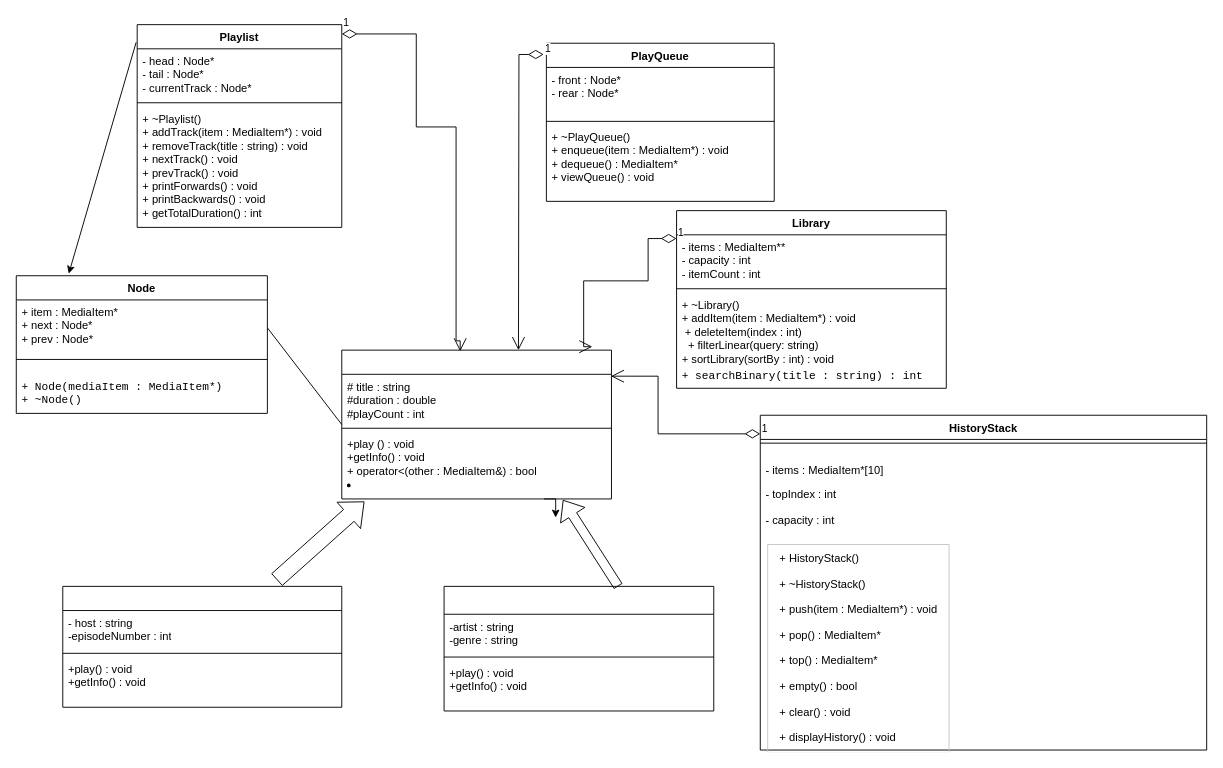
Image size: 1223x768. Some labels were removed from this diagram. The shapes that lost their labels are listed below. From the top down, each one's box as (x1, y1, x2, y2) in pixels, then its label:
(341, 349, 611, 499): <<abstract>> MediaItem
(62, 585, 342, 707): Podcast
(443, 585, 714, 711): Song
